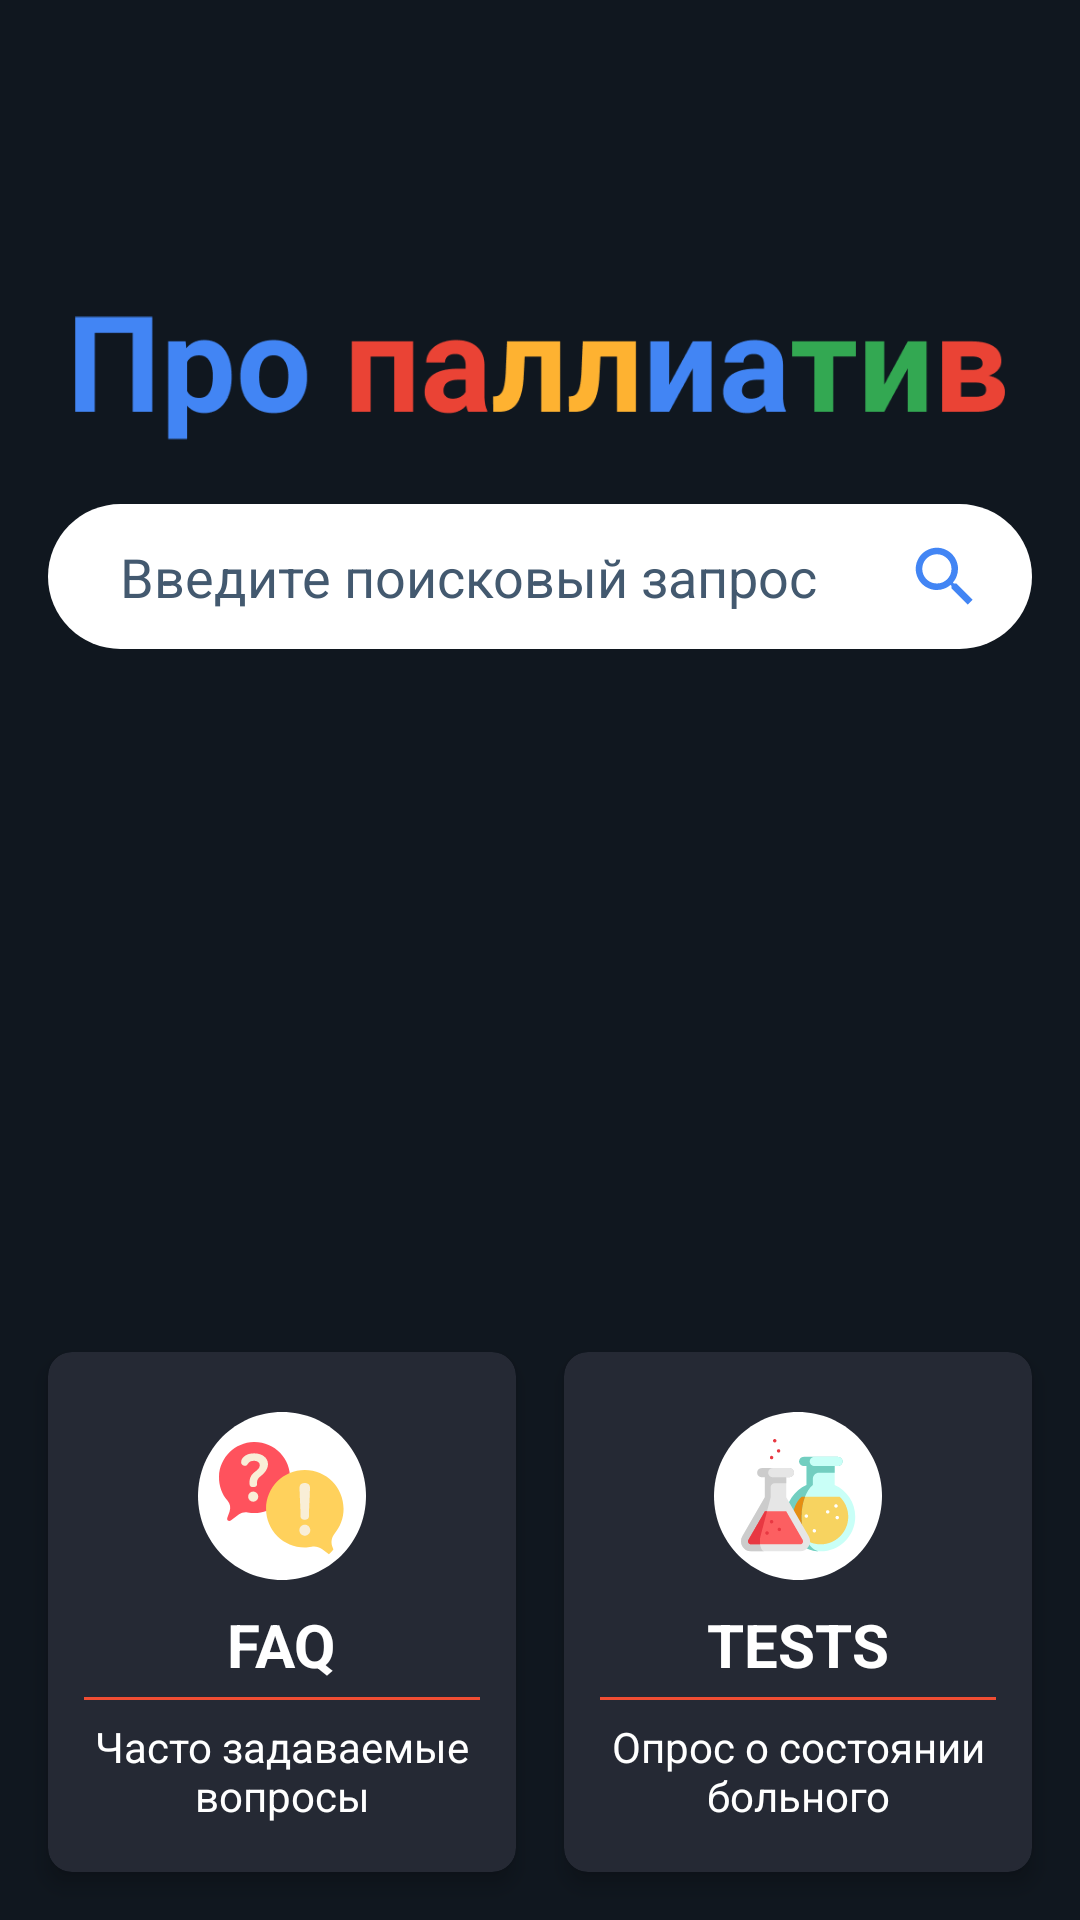

Locate icon controls on the screen. Image size 1080×1920, boxes as (x1, y1, x2, y2).
system search: (870, 504, 1020, 649)
